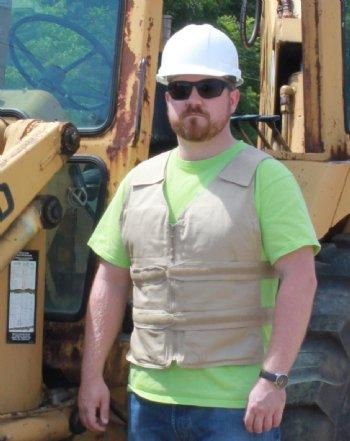helmet: (157, 25, 244, 87)
